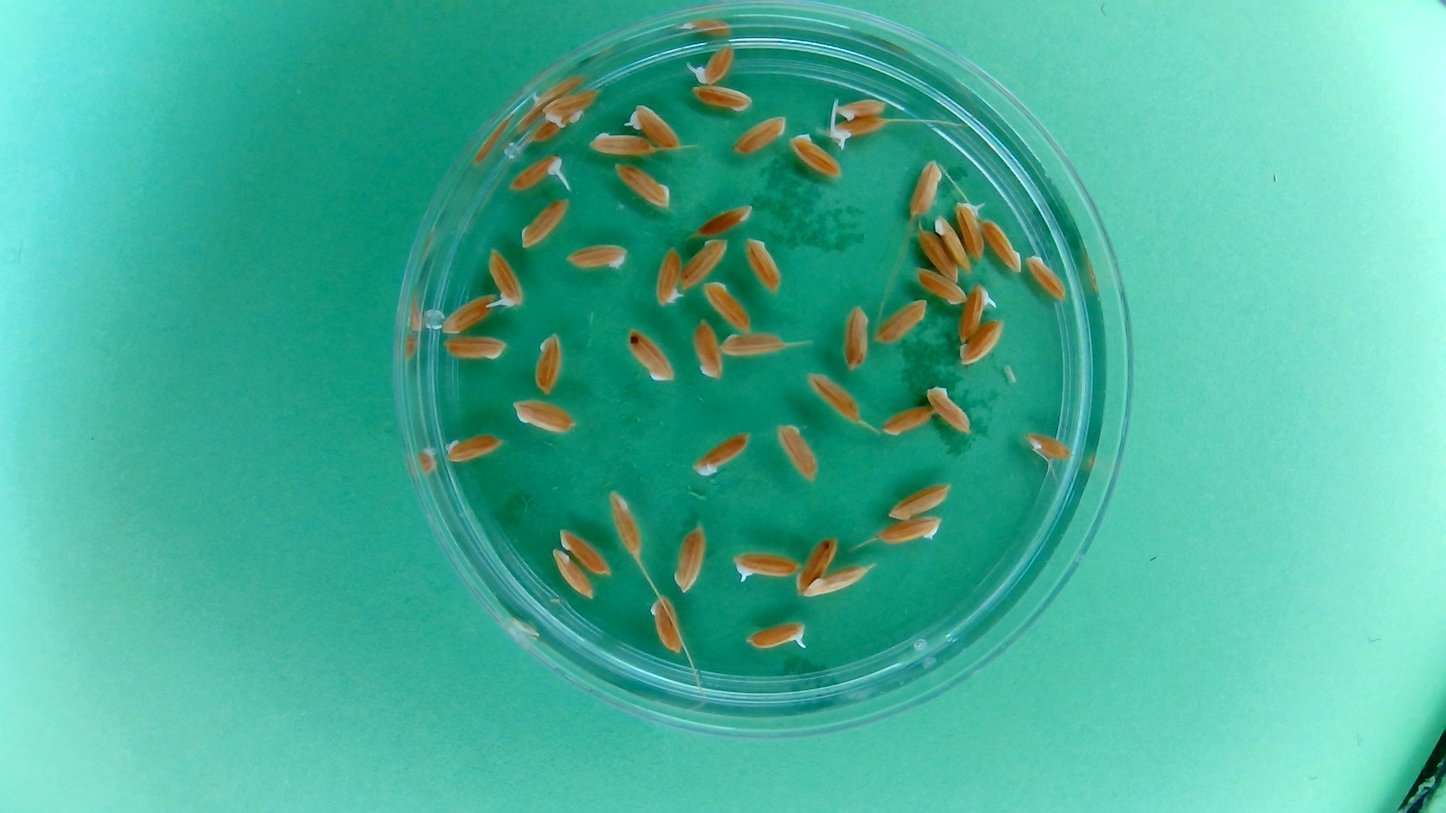no: (624, 324, 677, 384), (612, 161, 672, 212), (807, 370, 863, 424), (691, 429, 752, 477), (519, 194, 570, 251), (700, 278, 752, 333), (773, 421, 819, 483), (874, 296, 931, 346), (509, 396, 578, 437), (559, 526, 614, 577), (679, 235, 729, 291), (795, 533, 840, 595), (787, 131, 842, 181), (886, 481, 953, 522), (728, 113, 789, 158), (438, 290, 497, 336), (672, 522, 709, 593), (607, 489, 645, 558), (689, 200, 754, 240), (926, 383, 974, 437), (957, 316, 1007, 367), (550, 546, 596, 601), (914, 223, 956, 283), (980, 217, 1023, 274), (1022, 252, 1069, 304), (743, 235, 784, 294), (531, 330, 566, 397), (716, 327, 787, 360), (912, 266, 969, 307), (584, 129, 658, 160), (804, 565, 871, 599), (563, 241, 632, 274), (689, 317, 724, 382), (933, 214, 972, 272), (648, 595, 685, 656), (443, 431, 505, 467), (875, 515, 943, 547), (840, 303, 871, 372), (440, 333, 508, 364), (909, 157, 943, 219), (653, 244, 684, 309), (690, 84, 755, 114), (1023, 428, 1076, 463), (880, 405, 935, 438), (531, 114, 580, 146)
yes: (627, 101, 683, 151), (956, 280, 995, 344), (487, 245, 525, 310), (508, 153, 566, 194), (731, 550, 801, 583), (953, 197, 987, 261), (689, 42, 738, 86), (543, 83, 595, 121), (825, 115, 887, 145), (745, 620, 807, 650), (833, 94, 889, 120)
